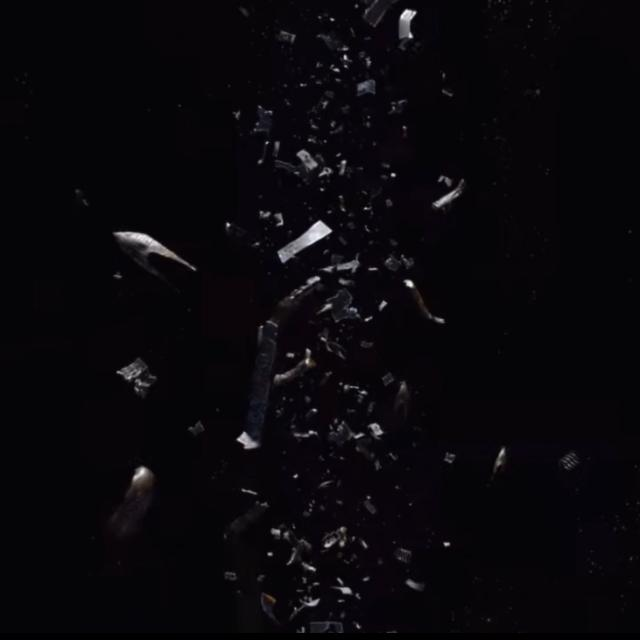large_debris: (114, 212, 205, 292), (246, 102, 331, 186), (394, 526, 450, 606), (279, 210, 339, 279), (282, 255, 360, 307), (391, 235, 436, 322), (435, 172, 498, 234), (108, 339, 161, 398), (267, 520, 317, 569), (120, 470, 168, 515), (393, 0, 423, 62), (272, 353, 314, 393), (364, 408, 401, 450), (336, 572, 367, 622), (484, 437, 522, 477), (350, 66, 379, 106), (356, 3, 394, 32), (558, 448, 588, 481), (237, 425, 262, 463)
